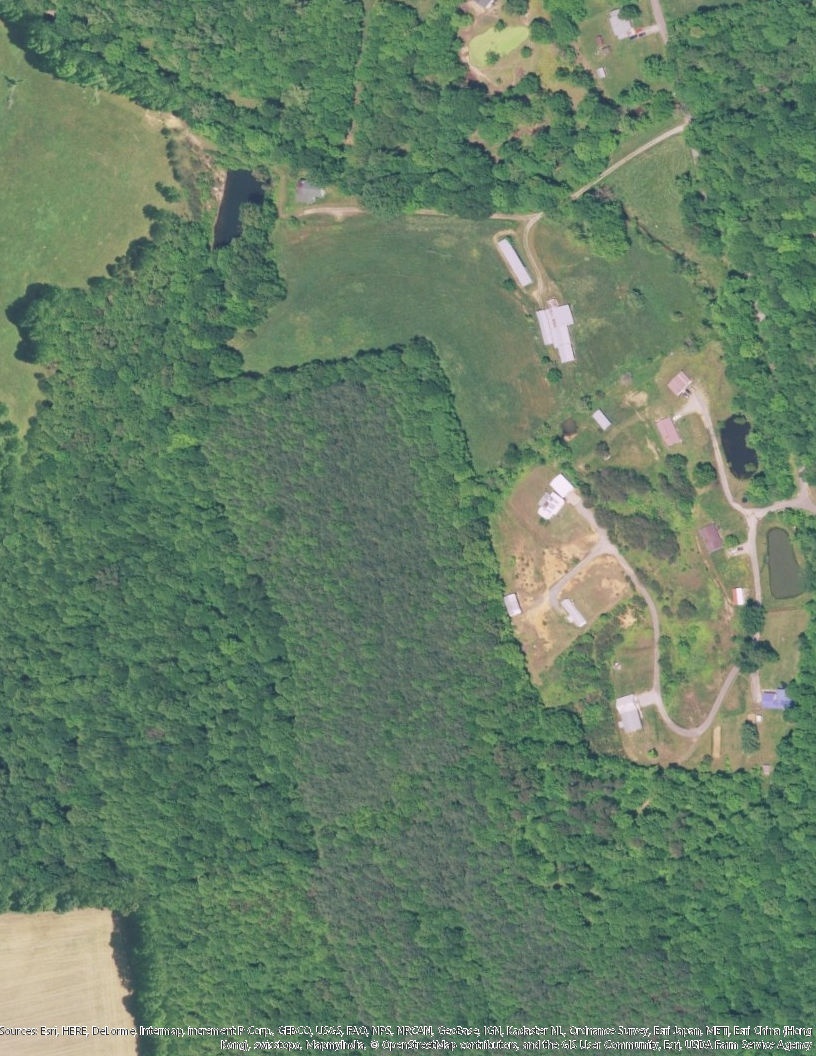cafo: (533, 296, 581, 370), (492, 235, 534, 290)
